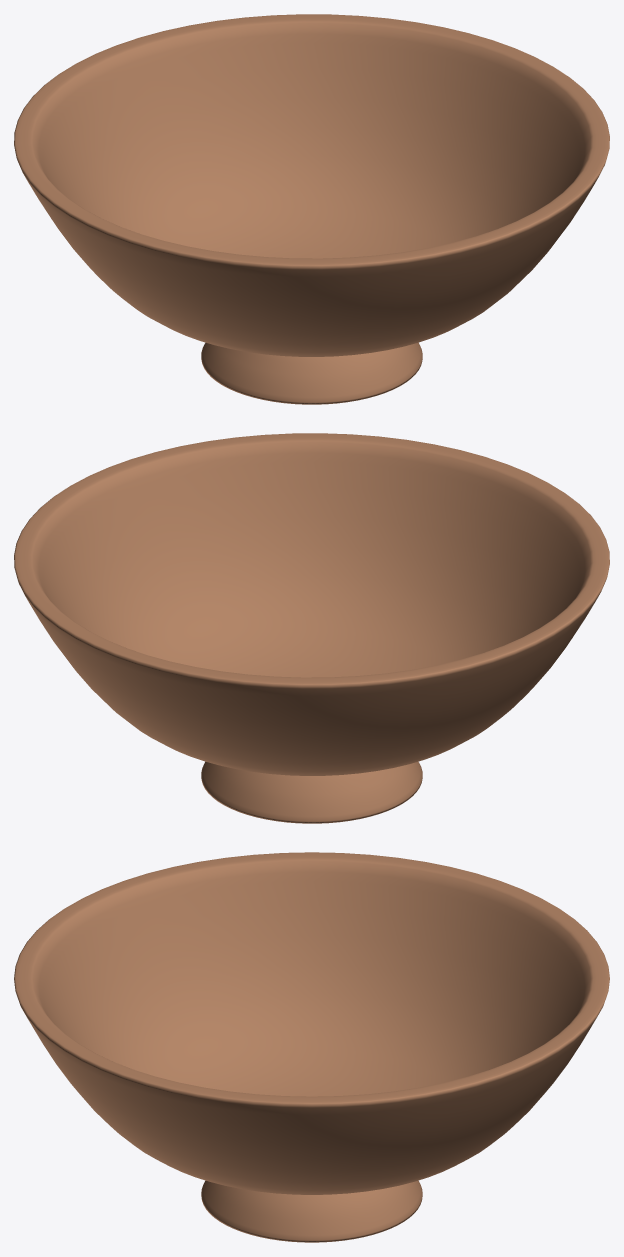
The model's file is bowl.fbx.
3 renders of one model, top to bottom at view 1: azimuth 30°, elevation 25°; view 2: azimuth 150°, elevation 25°; view 3: azimuth 270°, elevation 25°, orthographic.
Parts seen in each view (by area): view 1: fruit bowl; view 2: fruit bowl; view 3: fruit bowl.
Boxes of the visible parts, x1=… form: fruit bowl: x1=14, y1=14, x2=609, y2=404; fruit bowl: x1=14, y1=433, x2=609, y2=823; fruit bowl: x1=14, y1=852, x2=609, y2=1242.
Bounding box in the file's own units: 491 × 199 × 491.
